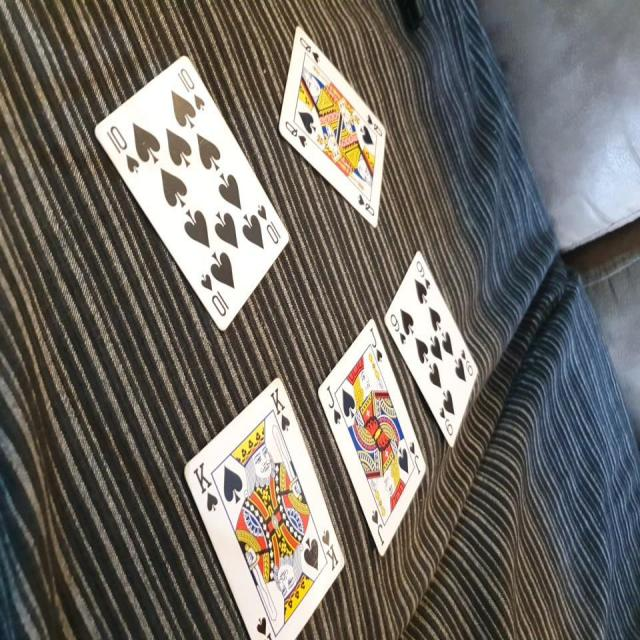10 Spades: (86, 44, 291, 336)
9 Spades: (384, 244, 482, 448)
J Spades: (313, 309, 430, 562)
K Spades: (173, 369, 352, 640)
Q Spades: (279, 22, 395, 233)
